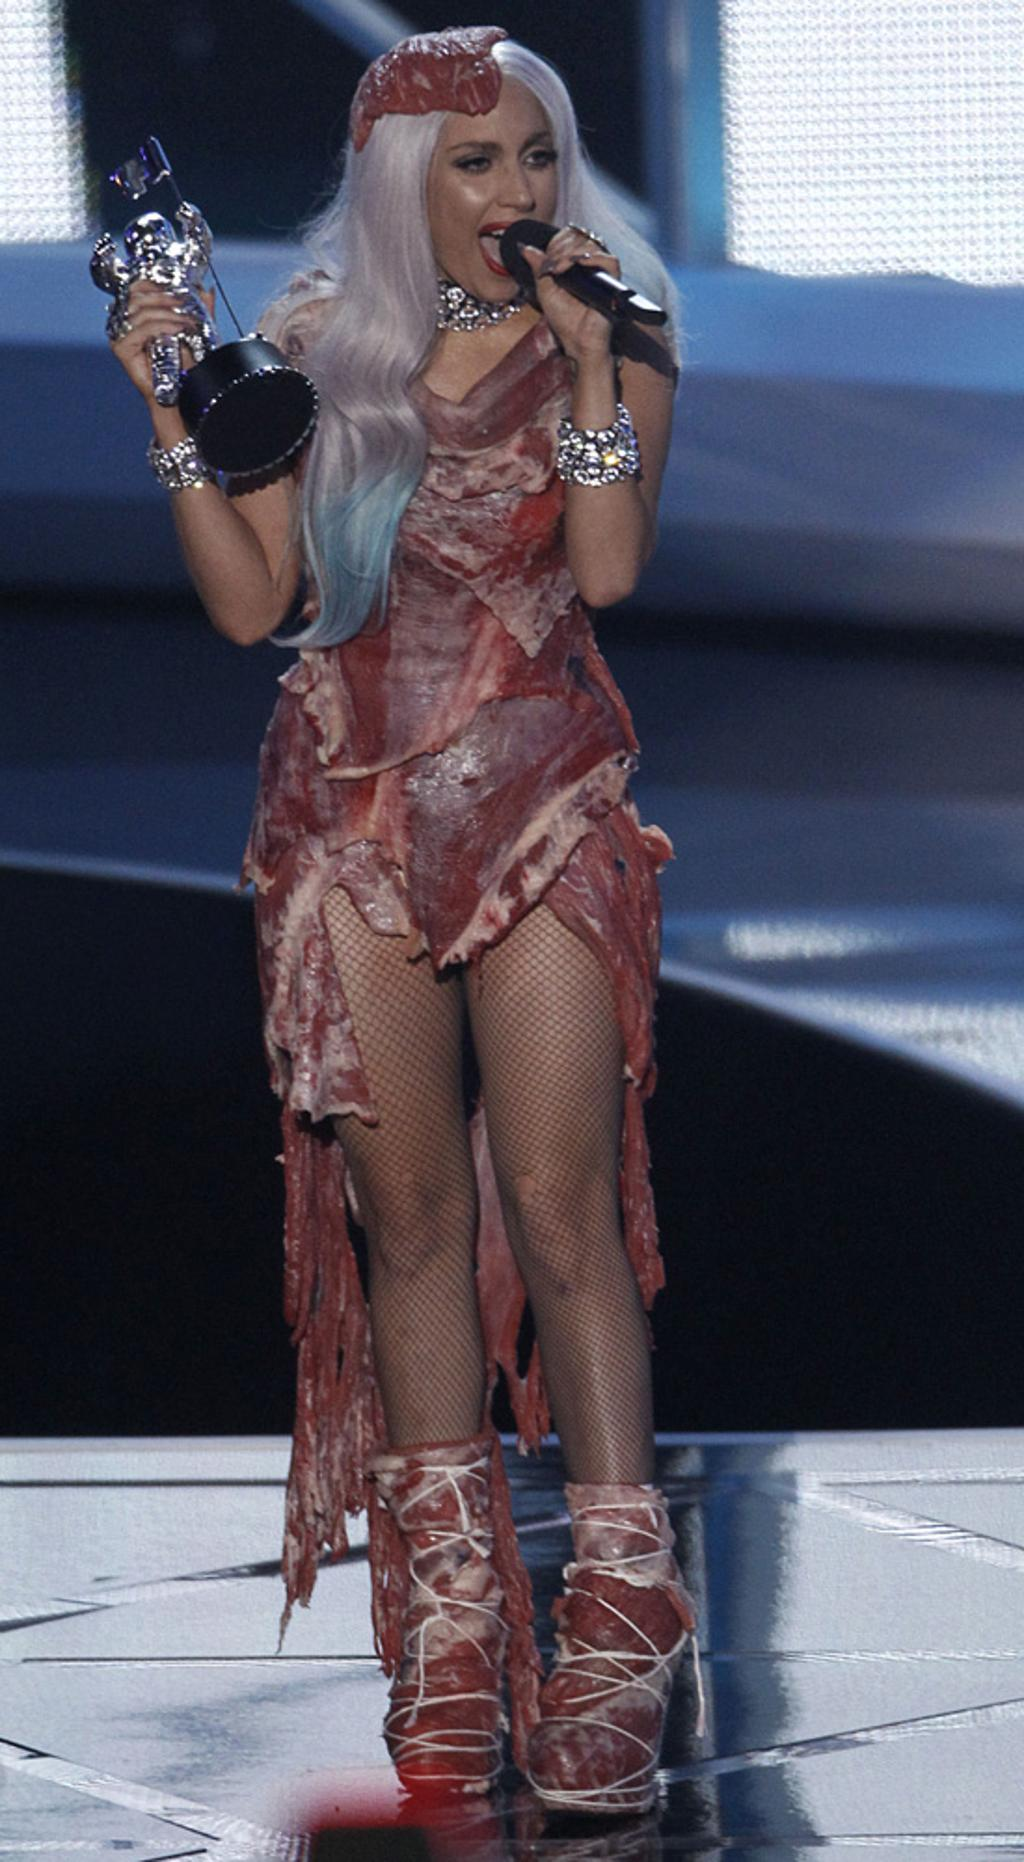face: (421, 76, 559, 290)
